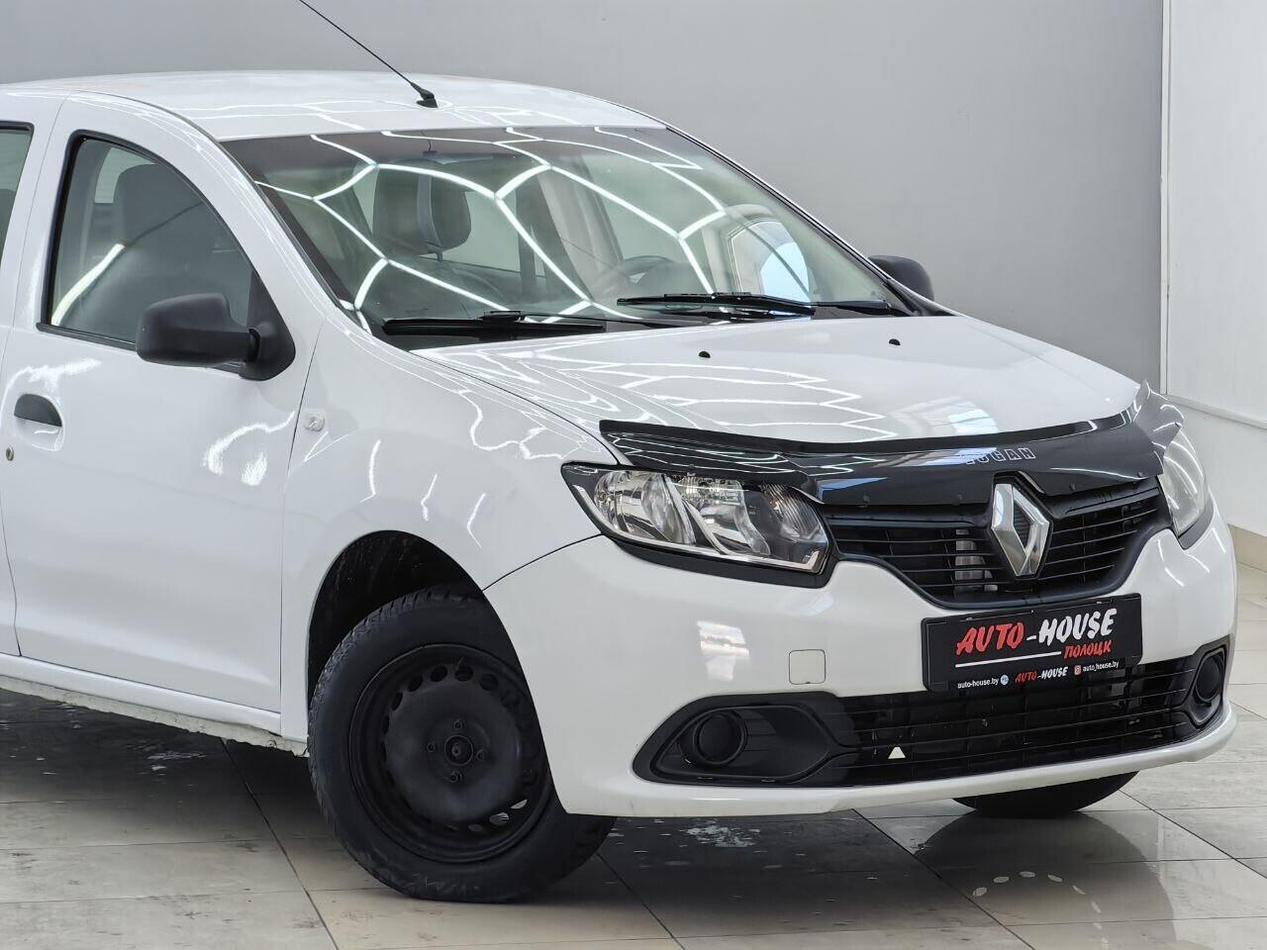Logan_2013-2018: (0, 62, 1252, 907)
